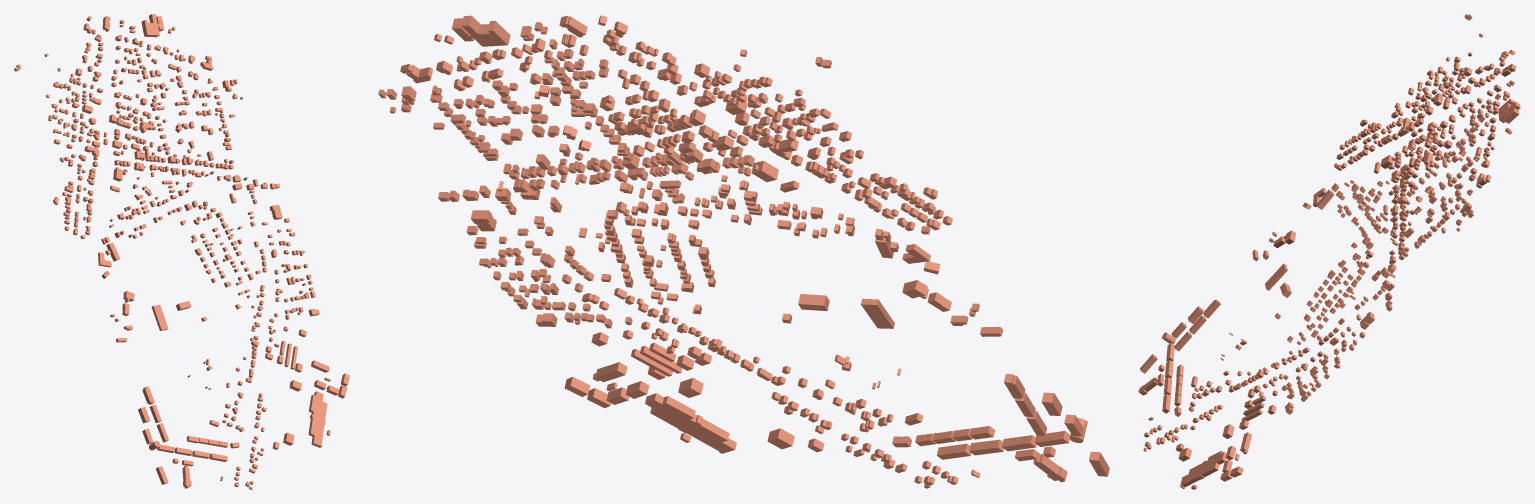
3 renders of one model, left to right at view 1: azimuth 30°, elevation 25°; view 2: azimuth 150°, elevation 25°; view 3: azimuth 270°, elevation 25°, orthographic. The views are drawn at different scales.
Parts seen in each view (by area): view 1: mesh; view 2: mesh; view 3: mesh.
Part boxes in pixels (x1,y1,x2,y2): mesh: (14, 14, 349, 489); mesh: (378, 15, 1109, 488); mesh: (1138, 14, 1520, 489).
Bounding box in the file's own units: 971 × 1369 × 1178.
